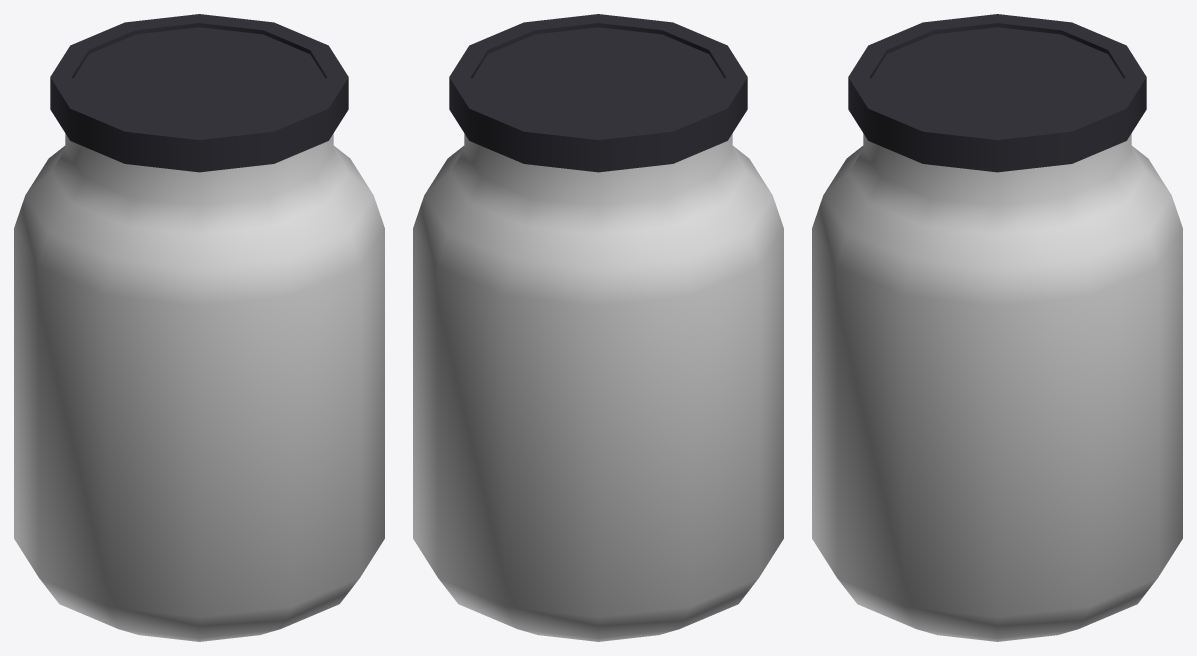
File: Jar_01.fbx
The picture shows the model from 3 angles, left to right: view 1: azimuth 30°, elevation 25°; view 2: azimuth 150°, elevation 25°; view 3: azimuth 270°, elevation 25°; orthographic projection.
Parts seen in each view (by area): view 1: Jar_01, Jar_01_Lid; view 2: Jar_01, Jar_01_Lid; view 3: Jar_01, Jar_01_Lid.
Boxes of the visible parts, box(x1,y1,x2,y2) form: Jar_01: box(14, 133, 384, 641); Jar_01_Lid: box(50, 14, 348, 172); Jar_01: box(413, 133, 783, 641); Jar_01_Lid: box(449, 14, 747, 172); Jar_01: box(812, 133, 1182, 641); Jar_01_Lid: box(848, 14, 1146, 172).
Bounding box in the file's own units: 0.2056 × 0.3143 × 0.2056.
